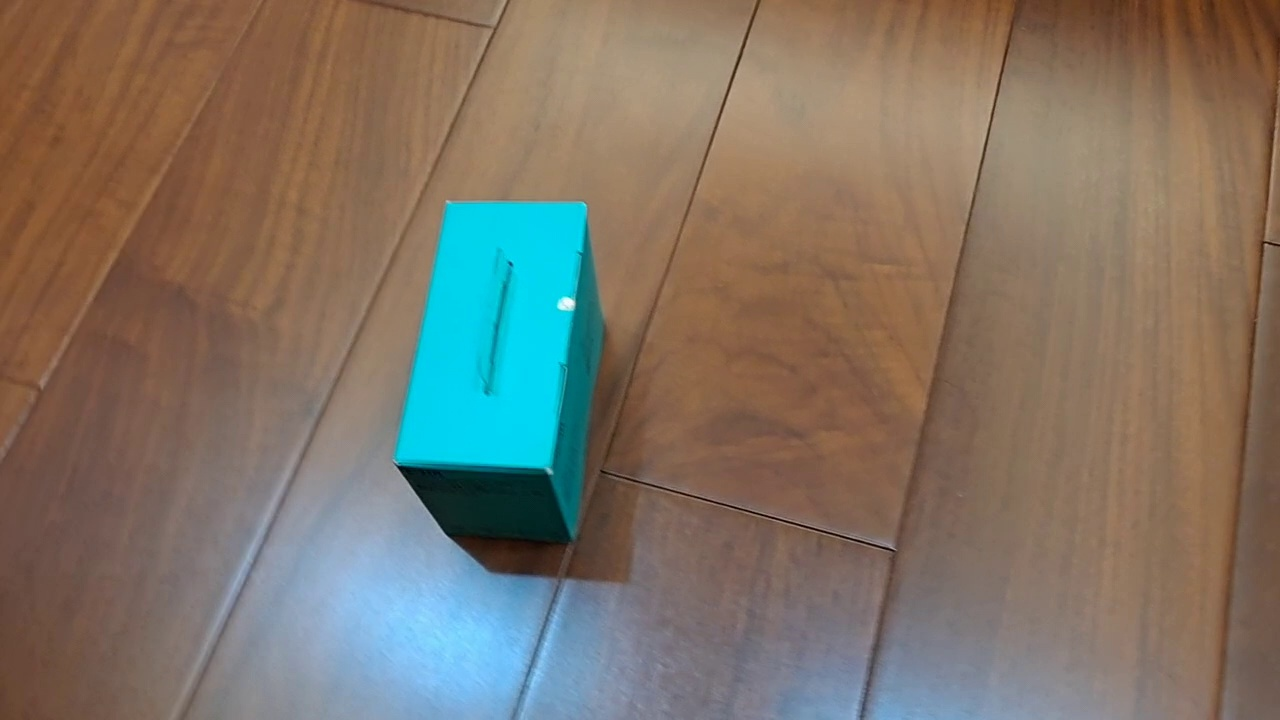webcam: (391, 200, 607, 545)
